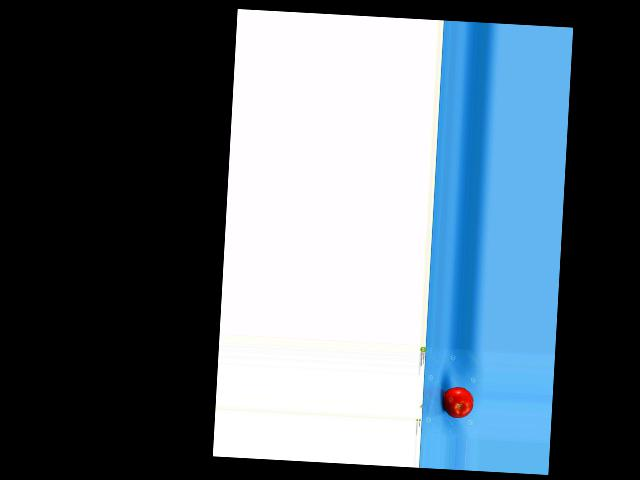tomato: (442, 386, 473, 419)
